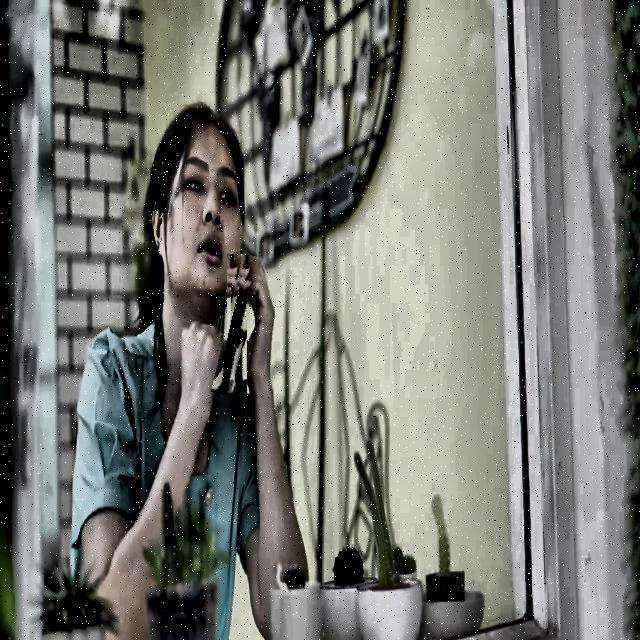Phone: (219, 254, 255, 396)
